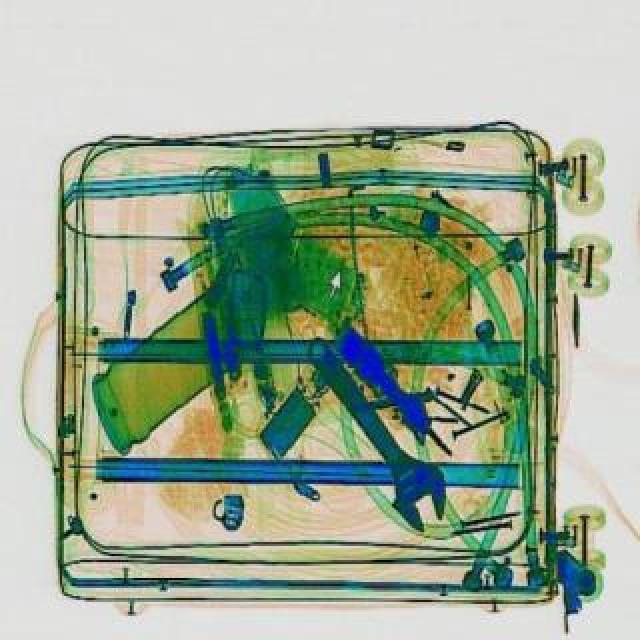scissors: (284, 322, 468, 534)
